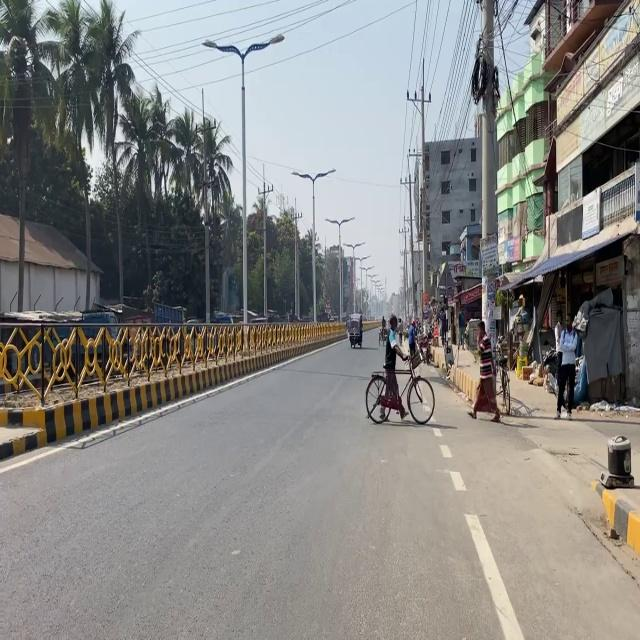Construction-barrier: (0, 424, 46, 459)
Fallen-tree: (346, 318, 362, 348)
Garbage: (600, 434, 634, 488)
Garbage-bin: (467, 321, 501, 422), (379, 316, 410, 418), (554, 314, 582, 418)
Light-pole: (472, 6, 508, 342), (234, 58, 256, 328)
Pole: (2, 312, 264, 454)
Pothole: (430, 334, 639, 556)
